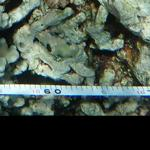dead: (1, 1, 148, 114)
